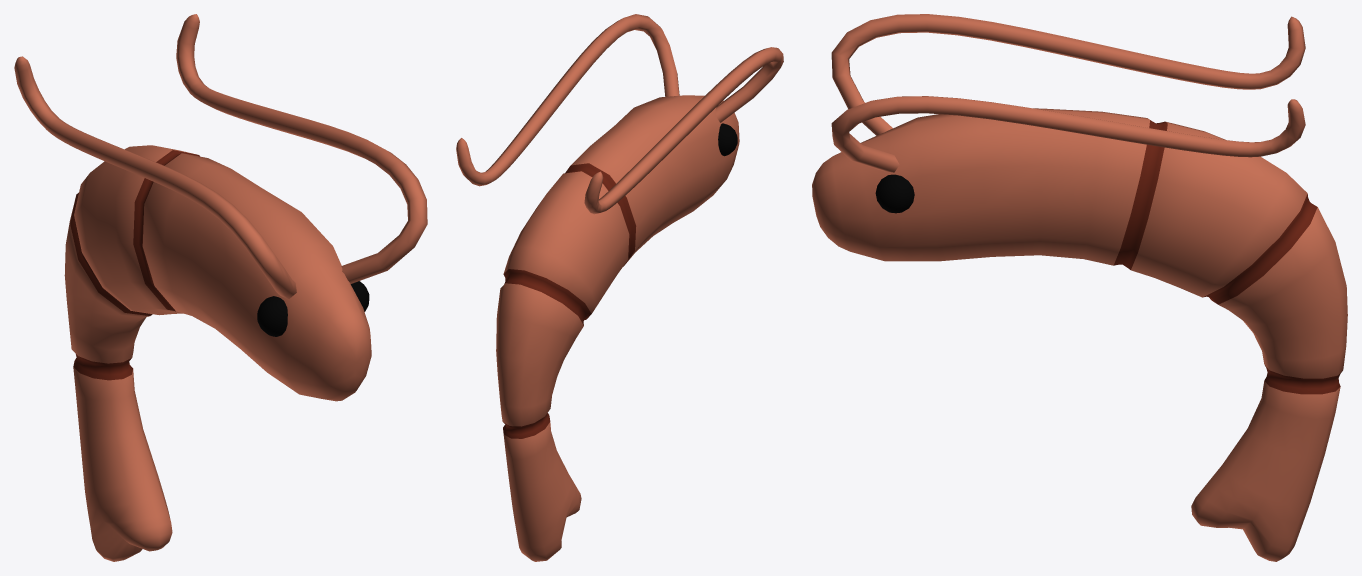
File: ASFTR_ShrimpCustomer.fbx
3 renders of one model, left to right at view 1: azimuth 30°, elevation 25°; view 2: azimuth 150°, elevation 25°; view 3: azimuth 270°, elevation 25°, orthographic. The views are drawn at different scales.
Visible parts, largest first — view 1: ASFTR_ShrimpCustomer; view 2: ASFTR_ShrimpCustomer; view 3: ASFTR_ShrimpCustomer.
Boxes of the visible parts, x1=… form: ASFTR_ShrimpCustomer: x1=14, y1=14, x2=427, y2=561; ASFTR_ShrimpCustomer: x1=456, y1=14, x2=783, y2=561; ASFTR_ShrimpCustomer: x1=812, y1=14, x2=1347, y2=561.
Bounding box in the file's own units: 61.5 × 162 × 156.
